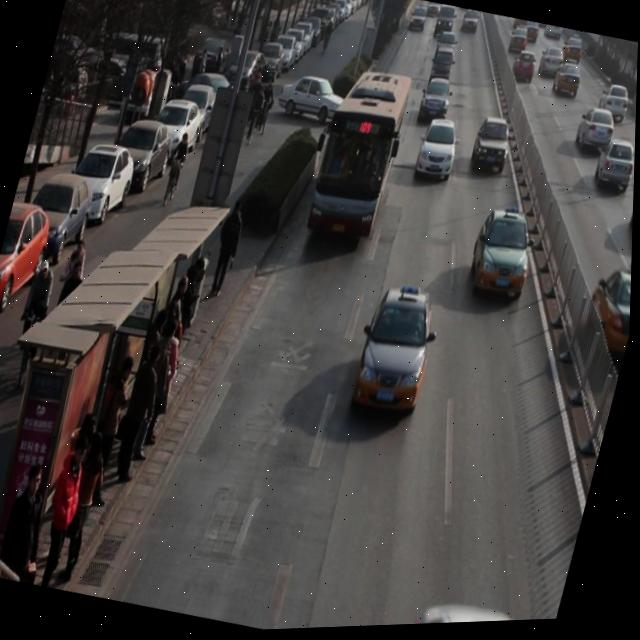car: (351, 282, 446, 421), (464, 202, 544, 307), (584, 261, 633, 361), (413, 116, 464, 187), (469, 116, 516, 178), (592, 140, 636, 198), (574, 107, 620, 159), (419, 77, 456, 127), (595, 84, 633, 127), (551, 60, 586, 101), (537, 47, 566, 81), (511, 52, 539, 87), (561, 34, 587, 66), (508, 26, 531, 57), (435, 32, 459, 60)
truck: (429, 46, 458, 87)
van: (303, 62, 412, 249)
